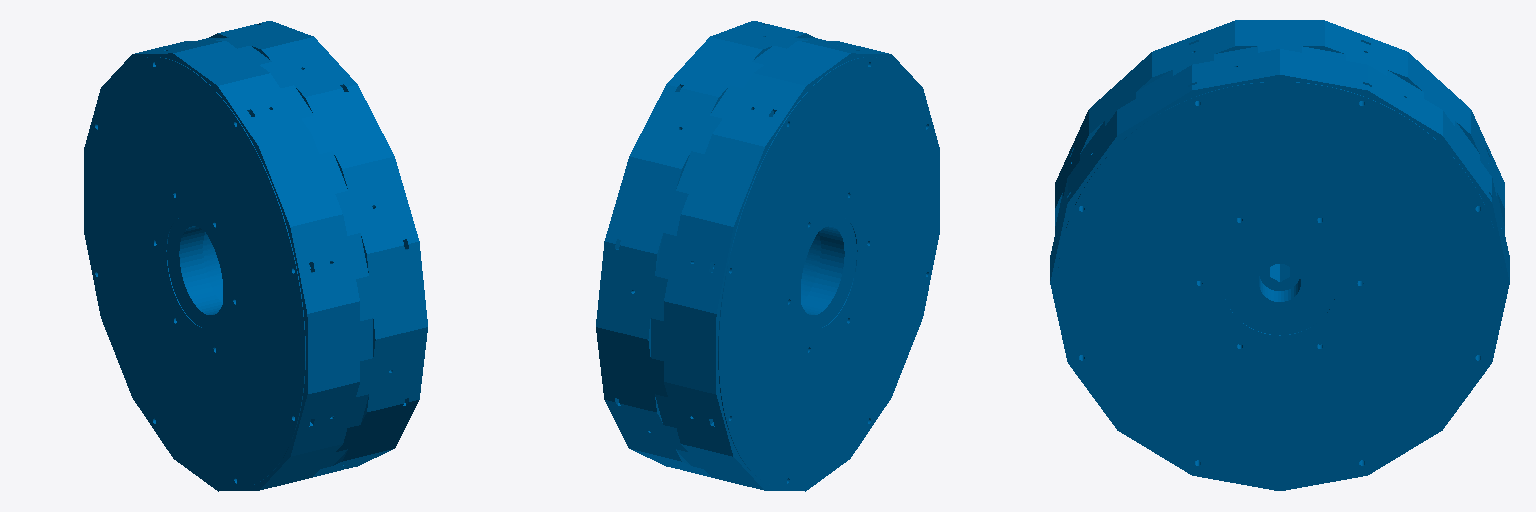
robot.urdf — simpleMod:
<?xml version="1.0" ?>
<robot name="simpleMod">

<material name="silver">
  <color rgba="0.700 0.700 0.700 1.000"/>
</material>

<link name="base_link"><!--body of robot-->
  <inertial>
    <origin rpy="0 0 0" xyz="-0.245 0.36548780487804877 0.07317073170731707"/>
    <mass value="6.436999999999999"/>
    <inertia ixx="0.2609357869918649" ixy="0.0" ixz="0.0" iyy="0.17940329369918712" iyz="-0.07096189390243904" izz="0.2961017766260119"/>
  </inertial>
  <visual>
    <origin rpy="1.57 0 0" xyz="0 -.05 0"/>
    <geometry>
        <mesh filename="package://simpleMod/meshes/det_base_link.stl" scale="0.001 0.001 0.001"/>
    </geometry>
    <material name="silver"/>
    <material/>
  </visual>
  <collision>
    <origin rpy="0 0 0" xyz="0 0 0"/>
    <geometry>
        <mesh filename="package://simpleMod/meshes/base_link.stl" scale="0.001 0.001 0.001"/>
    </geometry>
  </collision>
</link>

<link name="Component41"><!--rear wheel-->
  <inertial>
    <origin rpy="0 0 0" xyz="0.045 -1.1102230246251565e-16 5.574033788925725e-17"/>
    <mass value="49.93954221962675"/>
    <inertia ixx="0.561819849970794" ixy="2.220446049250313e-16" ixz="6.631284276962375e-17" iyy="0.3146191159836522" iyz="3.655441105365732e-16" izz="0.3146191159836391"/>
  </inertial>
  <visual>
    <origin rpy="0 1.57 0 " xyz="0.2 -0.0 0.36"/><!--.2 -.3 0 wheel4-->
    <geometry>
      <mesh filename="package://simpleMod/meshes/wheel1.stl" scale="0.001 0.001 0.001"/>
    </geometry>
    <material name="silver"/>
    <material/>
  </visual>
  <collision>
    <origin rpy="0 0 0" xyz="0.1 -0.55 0.0"/>
    <geometry>
      <mesh filename="package://simpleMod/meshes/Component41.stl" scale="0.001 0.001 0.001"/>
    </geometry>
  </collision>
</link>

<link name="Component31"><!--front working on--><!--done iss--><!--NOTIT-->
  <inertial>
    <origin rpy="0 1.57 0" xyz="0.045 2.2874165333815423e-17 4.551914400963141e-17"/>
    <mass value="49.93954221962675"/>
    <inertia ixx="0.5618198499707928" ixy="2.8558133635670037e-17" ixz="1.462756169494998e-16" iyy="0.31461911598365244" iyz="-1.827720552682897e-16" izz="0.3146191159836359"/>
  </inertial>
  <visual>
    <origin rpy="0 1.5707 0" xyz="0.2 0.0 0.36"/>
    <geometry>
      <mesh filename="package://simpleMod/meshes/wheel1.stl" scale="0.001 0.001 0.001"/>
    </geometry>
    <material name="silver"/>
    <material/>
  </visual>
  <collision>
    <origin rpy="0 1.5707 0" xyz="0.1 -0.0 0.0"/>
    <geometry>
    	<cylinder radius=".15" length=".05"/>
    </geometry>
  </collision>
</link>

<link name="Component21"><!--front--><!--fixed needs adjustment in the z and x--><!--NOTIT-->
  <inertial>
    <origin rpy="0 0 0" xyz="-0.04499999999999993 2.2874165333815423e-17 5.574033788925725e-17"/>
    <mass value="49.93954221962675"/>
    <inertia ixx="0.5618198499707923" ixy="5.711626727134089e-18" ixz="6.631284276962395e-17" iyy="0.3146191159836551" iyz="3.655441105365744e-16" izz="0.3146191159836391"/>
  </inertial>
  <visual>
    <origin rpy="0 1.57 0" xyz="0.085 -0.0 0.36"/>
    <geometry>
      <mesh filename="package://simpleMod/meshes/wheel1.stl" scale="0.001 0.001 0.001"/>
    </geometry>
    <material name="silver"/>
    <material/>
  </visual>
  <collision>
    <origin rpy="0 0 0" xyz="0.39 -0.0 -0.0"/>
    <geometry>
      <mesh filename="package://simpleMod/meshes/Component21.stl" scale="0.001 0.001 0.001"/>
    </geometry>
  </collision>
</link>

<link name="Component11">
  <inertial>
    <origin rpy="0 0 0" xyz="-0.044999999999999984 0.0 5.329070518200751e-17"/>
    <mass value="49.93954221962674"/>
    <inertia ixx="0.5618198499707869" ixy="-1.7763568394002505e-15" ixz="1.6109597928325866e-16" iyy="0.31461911598365155" iyz="1.099924501033629e-15" izz="0.31461911598362846"/>
  </inertial>
  <visual>
    <origin rpy="0 1.57 0" xyz="0.085 -0.0 0.36"/><!--almost--><!--NOTIT-->
    <geometry>
      <mesh filename="package://simpleMod/meshes/wheel3.stl" scale="0.001 0.001 0.001"/>
    </geometry>
    <material name="silver"/>
    <material/>
  </visual>
  <collision>
    <origin rpy="0 0 0" xyz="0.39 -0.55 -0.0"/>
    <geometry>
      <mesh filename="package://simpleMod/meshes/Component11.stl" scale="0.001 0.001 0.001"/>
    </geometry>
  </collision>
</link>

<link name="Component81"><!--belt body-->
  <inertial>
    <origin rpy="0 0 0" xyz="-0.12 0.2977765984182449 0.27896241286634416"/>
    <mass value="237.25839999999997"/>
    <inertia ixx="20.269401646980498" ixy="7.105427357601002e-15" ixz="0.0" iyy="1.293595177343363" iyz="-0.07330545130702504" izz="20.588476976303795"/>
  </inertial>
  <visual>
    <origin rpy="3.1415 0 3.14159" xyz="0.255 -0.25 0.23"/>
    <geometry>
      <mesh filename="package://simpleMod/meshes/belt.stl" scale="0.001 0.001 0.001"/>
    </geometry>
    <material name="silver"/>
    <material/>
  </visual>
  <collision>
    <origin rpy="0 0 0" xyz="0.12 -0.0 -0.01"/>
    <geometry>
      <mesh filename="package://simpleMod/meshes/Component81.stl" scale="0.001 0.001 0.001"/>
    </geometry>
  </collision>
</link>

<joint name="Rev1" type="continuous">
  <origin rpy="0 0 0" xyz="-0.1 0.55 0.0"/>
  <parent link="base_link"/>
  <child link="Component41"/>
  <axis xyz="1.0 0.0 0.0"/>
</joint>

<transmission name="Rev1_tran">
  <type>transmission_interface/SimpleTransmission</type>
  <joint name="Rev1">
    <hardwareInterface>hardware_interface/VelocityJointInterface</hardwareInterface>
  </joint>
  <actuator name="Rev1_actr">
    <hardwareInterface>VelocityJointInterface</hardwareInterface>
    <mechanicalReduction>1</mechanicalReduction>
  </actuator>
</transmission>

<joint name="Rev2" type="continuous">
  <origin rpy="0 0 0" xyz="-0.1 0.0 0.0"/>
  <parent link="base_link"/>
  <child link="Component31"/>
  <axis xyz="1.0 0.0 0.0"/>
</joint>

<transmission name="Rev2_tran">
  <type>transmission_interface/SimpleTransmission</type>
  <joint name="Rev2">
    <hardwareInterface>hardware_interface/VelocityJointInterface</hardwareInterface>
  </joint>
  <actuator name="Rev2_actr">
    <hardwareInterface>VelocityJointInterface</hardwareInterface>
    <mechanicalReduction>1</mechanicalReduction>
  </actuator>
</transmission>

<joint name="Rev3" type="continuous">
  <origin rpy="0 0 0" xyz="-0.39 0.0 0.0"/>
  <parent link="base_link"/>
  <child link="Component21"/>
  <axis xyz="-1.0 0.0 0.0"/>
</joint>

<transmission name="Rev3_tran">
  <type>transmission_interface/SimpleTransmission</type>
  <joint name="Rev3">
    <hardwareInterface>hardware_interface/VelocityJointInterface</hardwareInterface>
  </joint>
  <actuator name="Rev3_actr">
    <hardwareInterface>VelocityJointInterface</hardwareInterface>
    <mechanicalReduction>1</mechanicalReduction>
  </actuator>
</transmission>

<joint name="Rev4" type="continuous">
  <origin rpy="0 0 0" xyz="-0.39 0.55 0.0"/>
  <parent link="base_link"/>
  <child link="Component11"/>
  <axis xyz="-1.0 0.0 0.0"/>
</joint>

<transmission name="Rev4_tran">
  <type>transmission_interface/SimpleTransmission</type>
  <joint name="Rev4">
    <hardwareInterface>hardware_interface/VelocityJointInterface</hardwareInterface>
  </joint>
  <actuator name="Rev4_actr">
    <hardwareInterface>VelocityJointInterface</hardwareInterface>
    <mechanicalReduction>1</mechanicalReduction>
  </actuator>
</transmission>

<joint name="Rev5" type="continuous">
  <origin rpy="0 0 0" xyz="-0.12 0.0 0.01"/>
  <parent link="base_link"/>
  <child link="Component81"/>
  <axis xyz="-1.0 0.0 0.0"/>
</joint>

<transmission name="Rev5_tran">
  <type>transmission_interface/SimpleTransmission</type>
  <joint name="Rev5">
    <hardwareInterface>hardware_interface/PositionJointInterface</hardwareInterface>
  </joint>
  <actuator name="Rev5_actr">
    <hardwareInterface>PositionJointInterface</hardwareInterface>
    <mechanicalReduction>1</mechanicalReduction>
  </actuator>
</transmission>

<gazebo>
  <plugin name="skid_steer_drive_controller" filename="libgazebo_ros_skid_steer_drive.so">
    <updateRate>100.0</updateRate>
    <robotNamespace>/simple_model</robotNamespace>
    <leftFrontJoint>Rev2</leftFrontJoint>
    <rightFrontJoint>Rev3</rightFrontJoint>
    <leftRearJoint>Rev1</leftRearJoint>
    <rightRearJoint>Rev4</rightRearJoint>
    <wheelSeparation>0.6</wheelSeparation>
    <wheelDiameter>0.3</wheelDiameter>
    <robotBaseFrame>base_link</robotBaseFrame>
    <torque>2000</torque>
    <topicName>cmd_vel</topicName>
    <broadcastTF>false</broadcastTF>
  </plugin>
</gazebo>

<gazebo>
    <plugin name="gazebo_ros_control" filename= "libgazebo_ros_control.so">
        <robotNamespace>/simple_model</robotNamespace>
        <rospram>/robot_description</rospram>
    </plugin>
</gazebo>

</robot>

--- Facts derived from the render (not from the file) ---
Views: 3 orthographic renders of the robot side by side, from view 1: azimuth 30°, elevation 25°; view 2: azimuth 150°, elevation 25°; view 3: azimuth 270°, elevation 25°.
Robot: simpleMod — 6 links, 5 joints (5 continuous); root link base_link; default pose: all joints at 0.
Visible links, largest first — view 1: Component11; view 2: Component11; view 3: Component11.
Link boxes in pixels (x1,y1,x2,y2): Component11: (84,21,427,491); Component11: (596,21,939,491); Component11: (1050,20,1509,490).
Size in the robot's own frame: 0.0912 by 0.3 by 0.3 metres.
Meshes: 4 distinct files referenced, 1 mesh visuals loaded (1 binary STL); not drawn: 5 (reference not matched to a file when rendering).